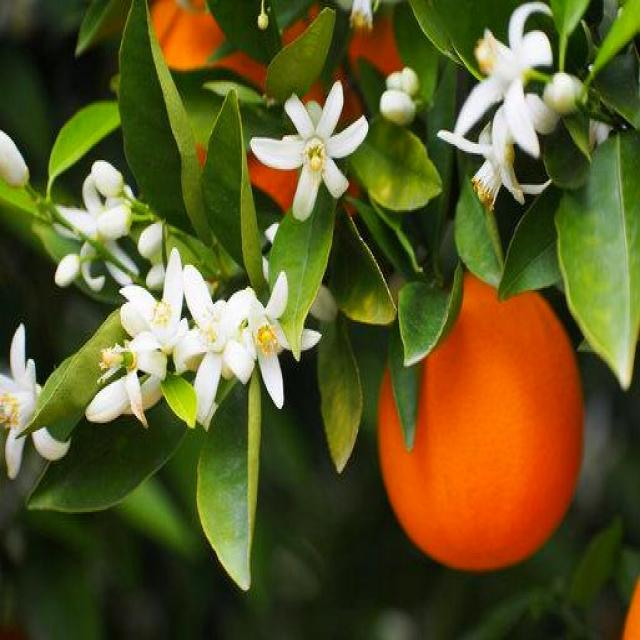Bunga: (250, 81, 366, 220), (453, 0, 548, 164), (170, 258, 254, 414), (0, 320, 71, 480), (240, 270, 320, 412), (439, 119, 547, 213), (117, 248, 187, 366), (99, 331, 164, 422), (542, 70, 586, 118), (0, 132, 30, 188), (88, 158, 126, 198), (379, 90, 417, 128), (522, 90, 556, 132), (98, 204, 134, 243), (138, 213, 168, 256), (54, 251, 78, 286), (402, 66, 419, 96), (386, 71, 400, 91)
Jeruk Sudah Matang: (376, 266, 586, 564), (138, 0, 360, 233)
